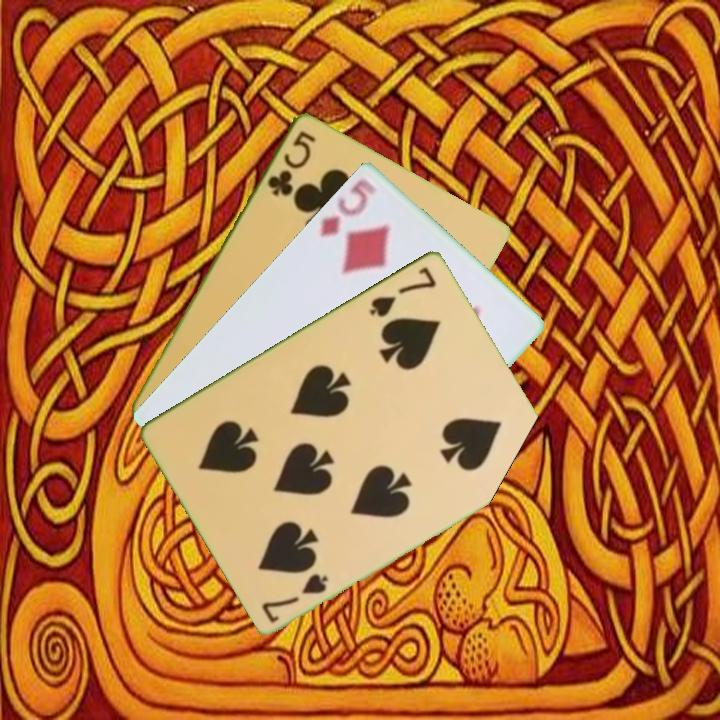5c: (263, 126, 319, 199)
5d: (316, 174, 379, 240)
7s: (366, 262, 439, 320), (258, 569, 332, 626)
